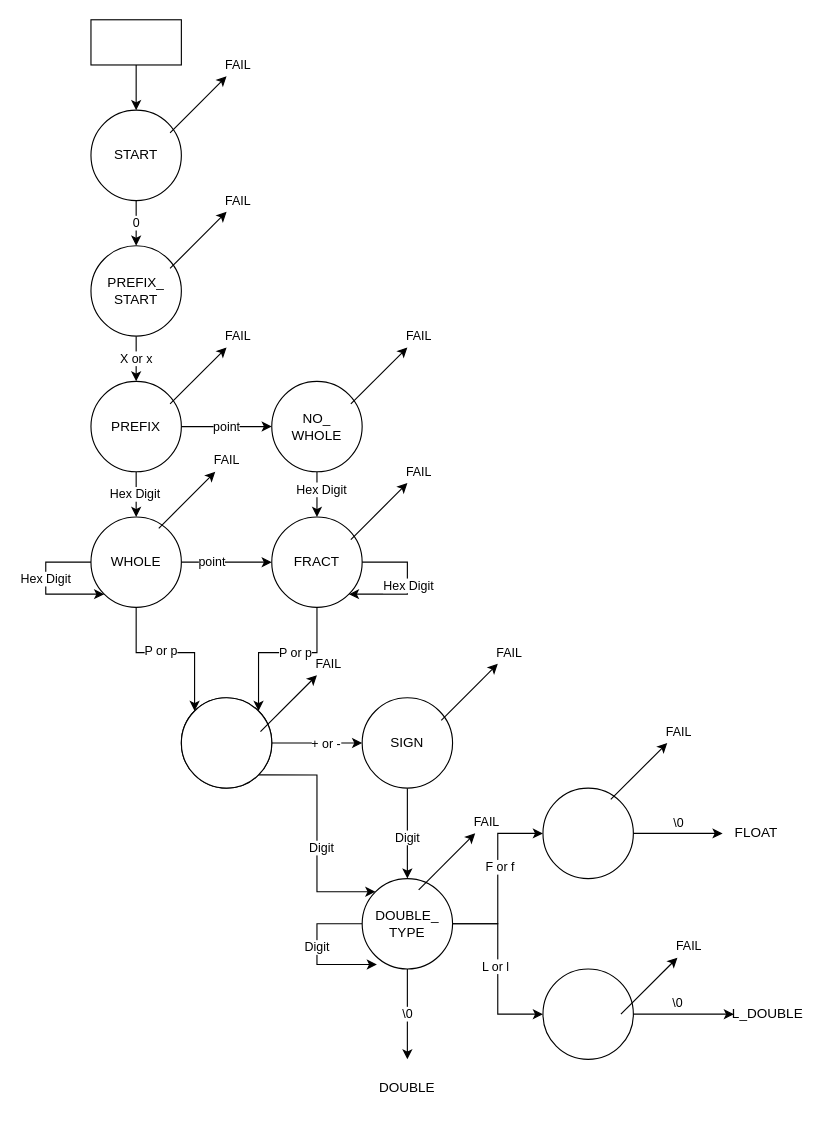
Some shapes in this 823 by 1124 pixel diagram are drawn without their labels. Here are the shapes that lost their labels. From the top down, the box of each, then its label:
(90, 19, 181, 65): ENTER
(180, 697, 272, 788): EXP_ START
(542, 787, 633, 879): FLOAT_ TYPE
(542, 968, 633, 1059): LONG_ TYPE
